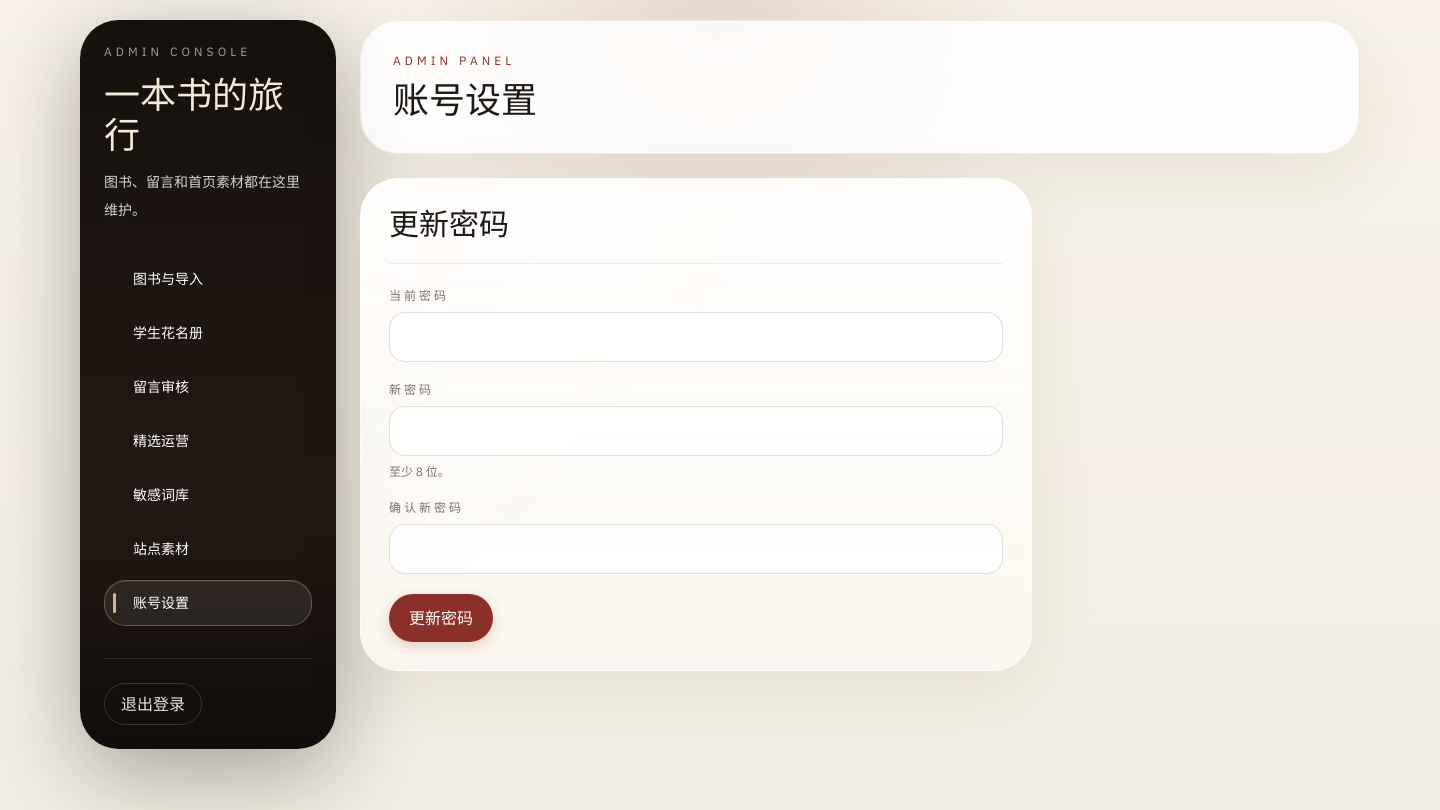
Test: Account settings › clears the token and returns to login after password change
In the password field labelled "当前密码": (696, 337) [389, 312, 1003, 362], type "jyzx2026"
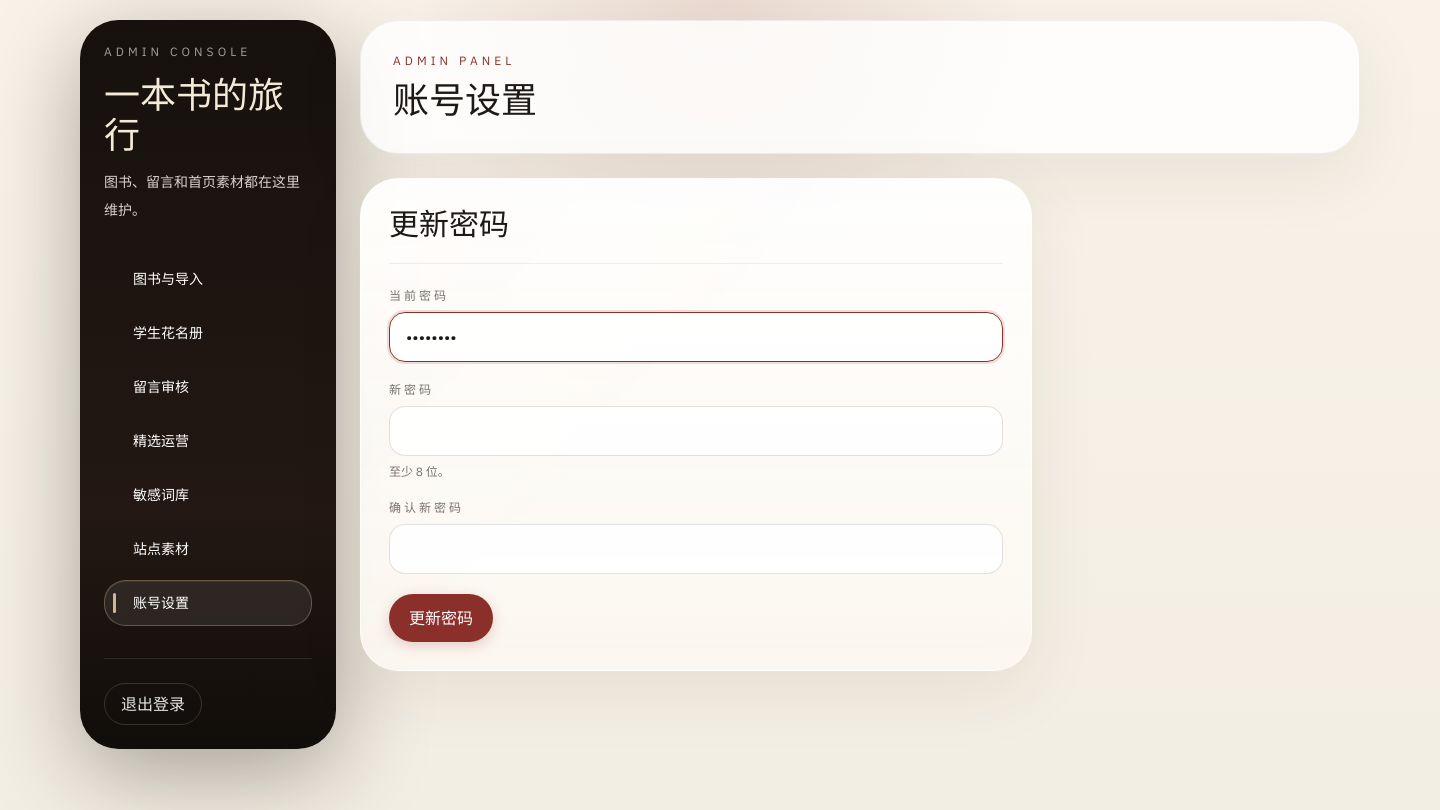
In the password field labelled "新密码": (696, 431) [389, 406, 1003, 456], type "new-admin-password"
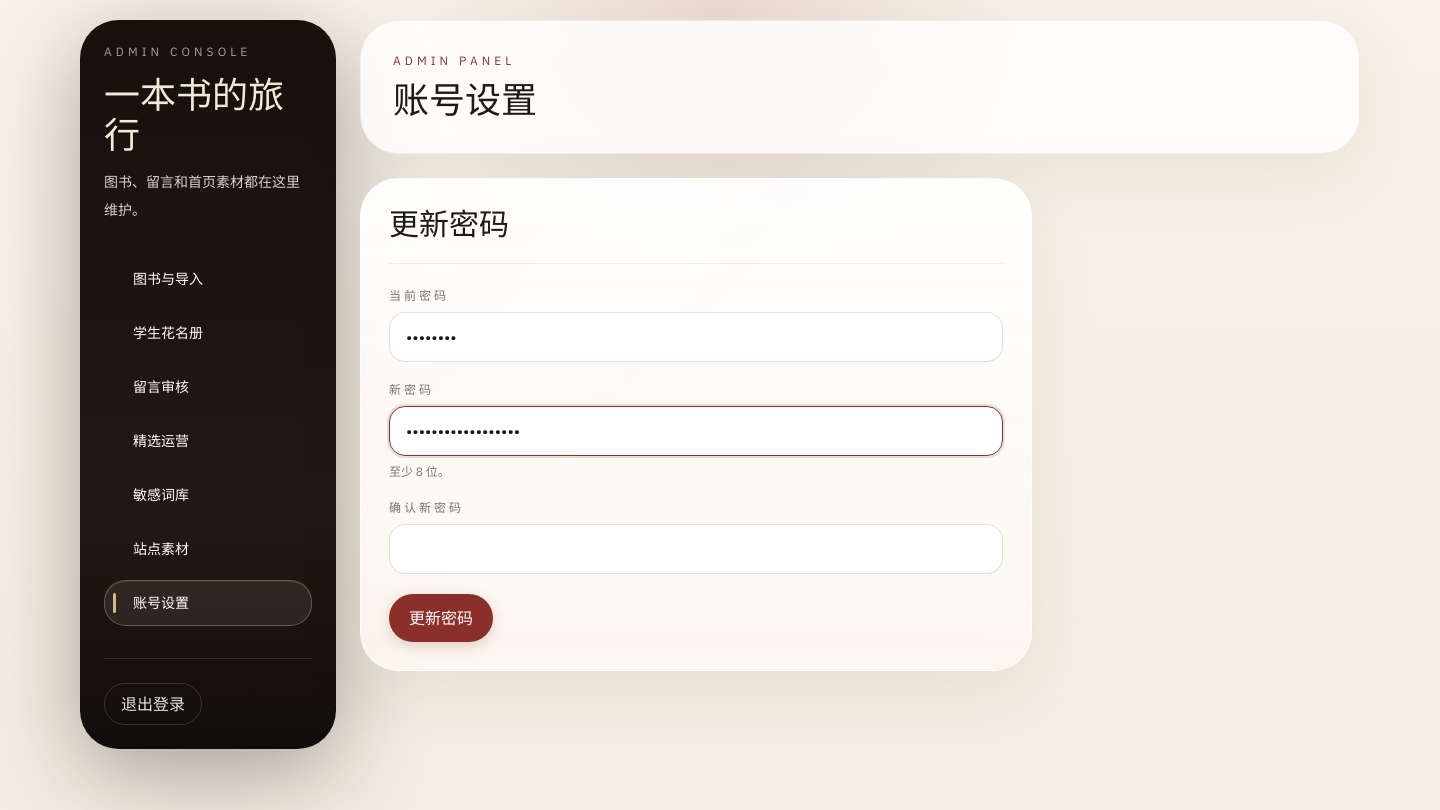
In the password field labelled "确认新密码": (696, 549) [389, 524, 1003, 574], type "new-admin-password"
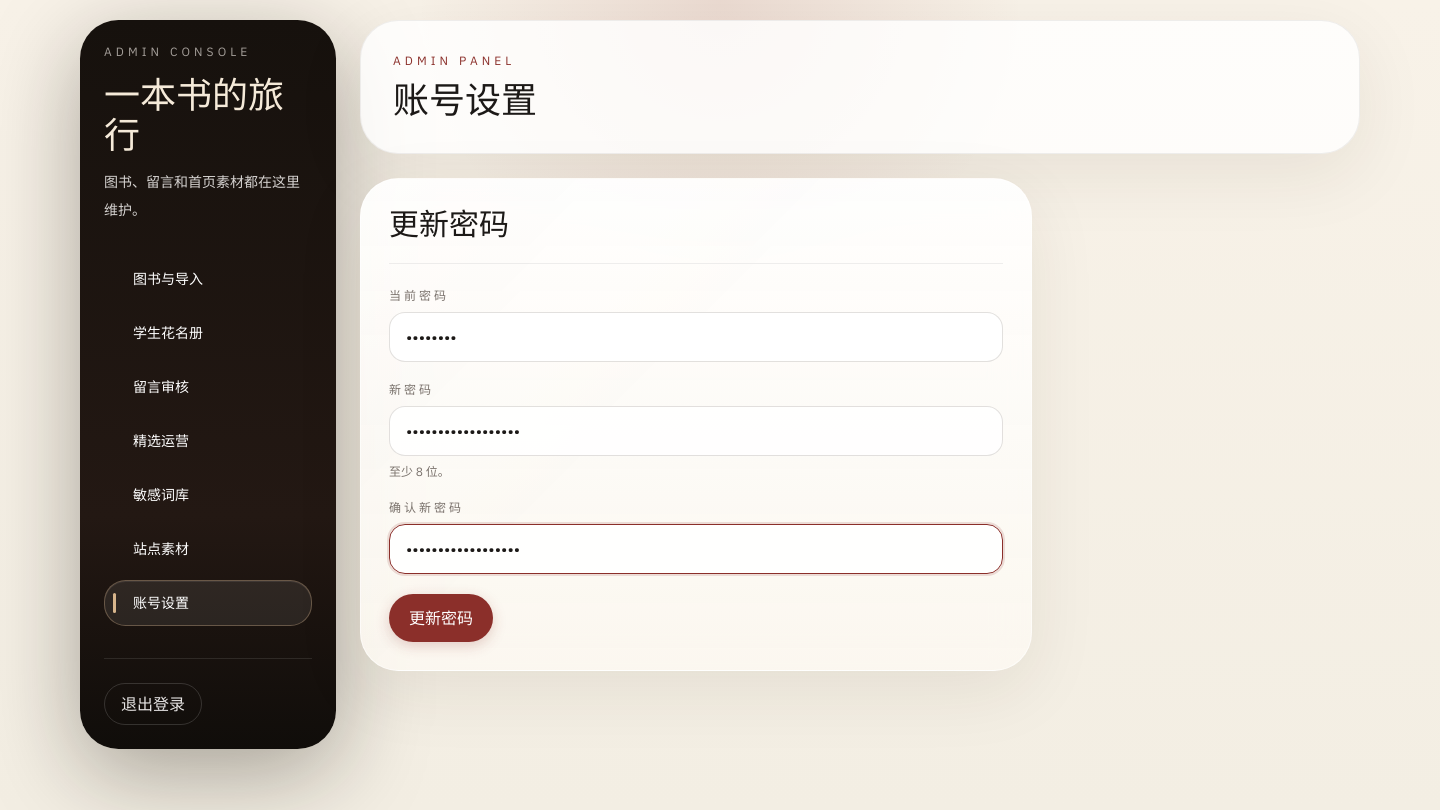
Click the button "更新密码": (441, 618) [389, 594, 493, 642]
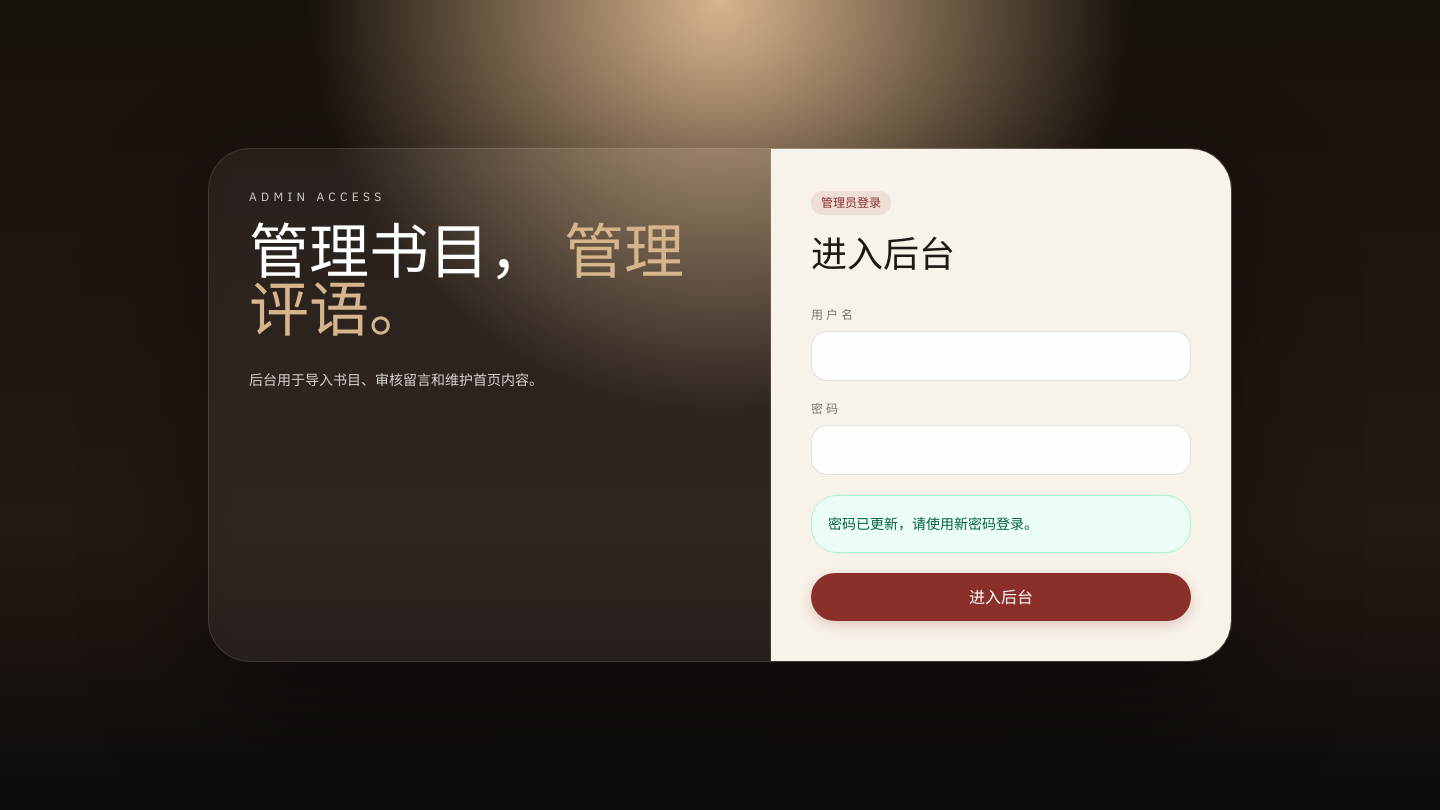
Check: the text "密码已更新，请使用新密码登录。" is shown, box [811, 495, 1191, 553]
